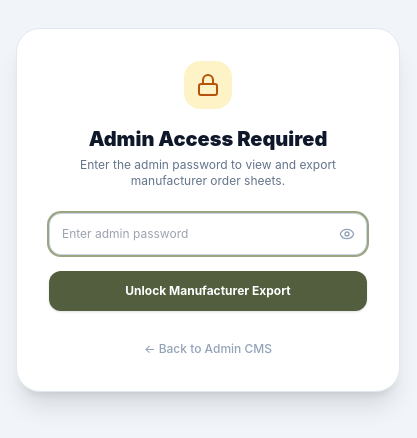
Test case: ManufacturerExportPage › shows error on incorrect admin password
Type "wrong" into the password field with placeholder "Enter admin password" at (208, 234), box [49,213,367,255]
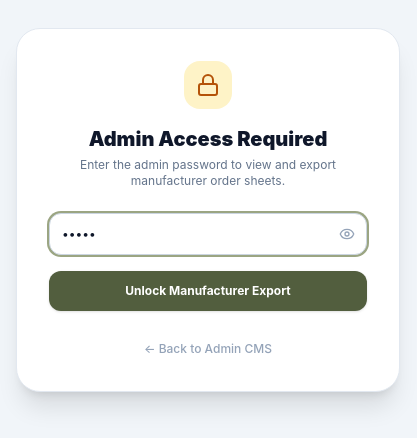
Click the button "Unlock Manufacturer Export" at (208, 291), box [49,271,367,311]
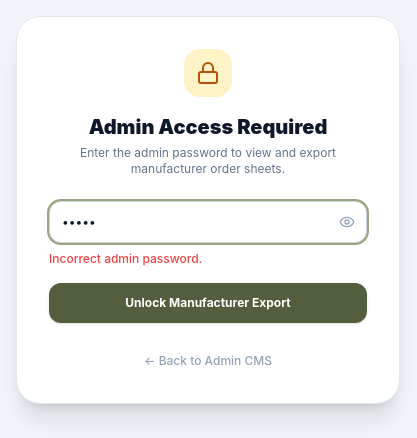
Result: the text "Incorrect admin password." is shown at [49,251,202,266]
